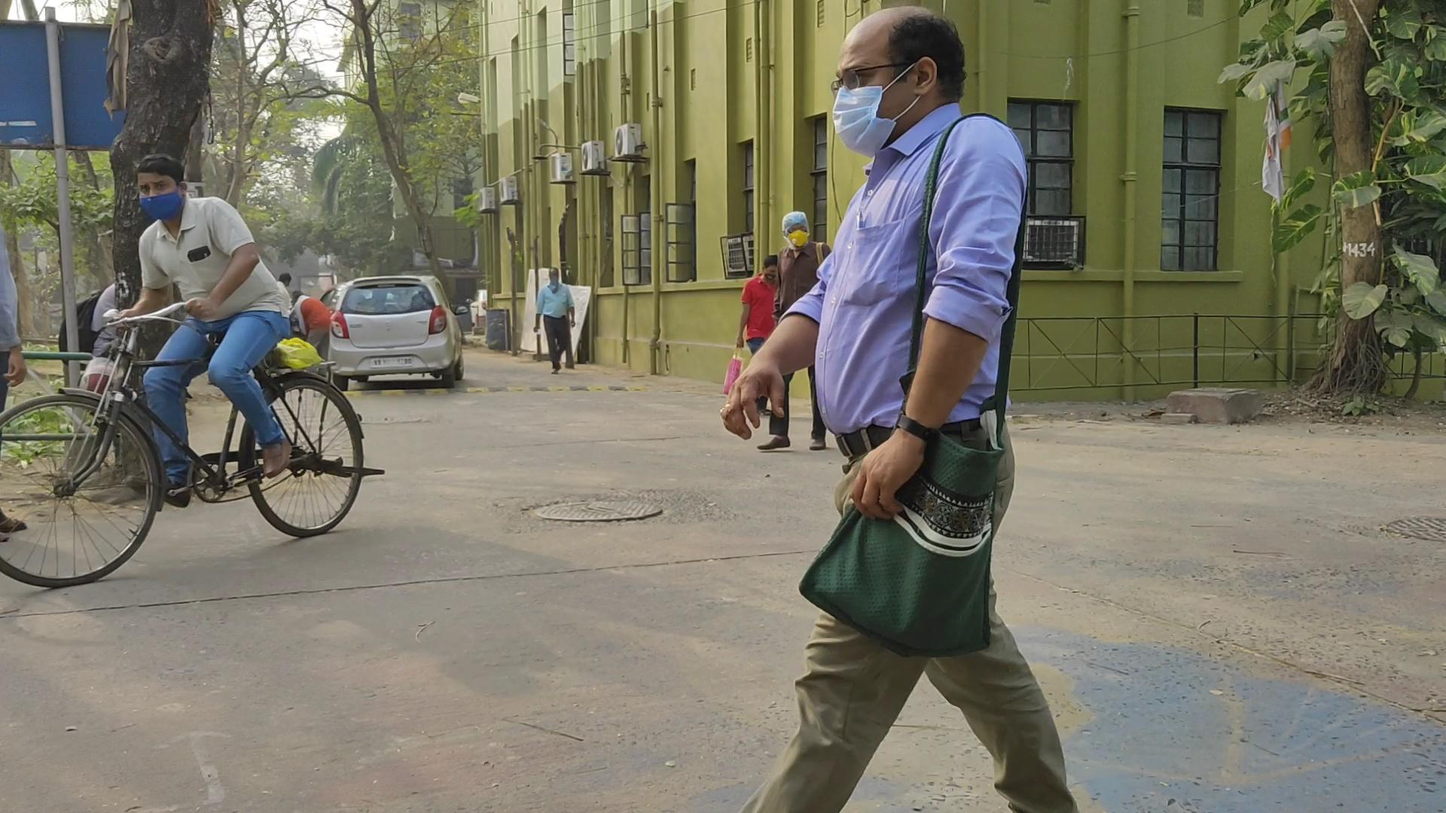bike: (2, 153, 383, 589)
car: (326, 275, 465, 394)
